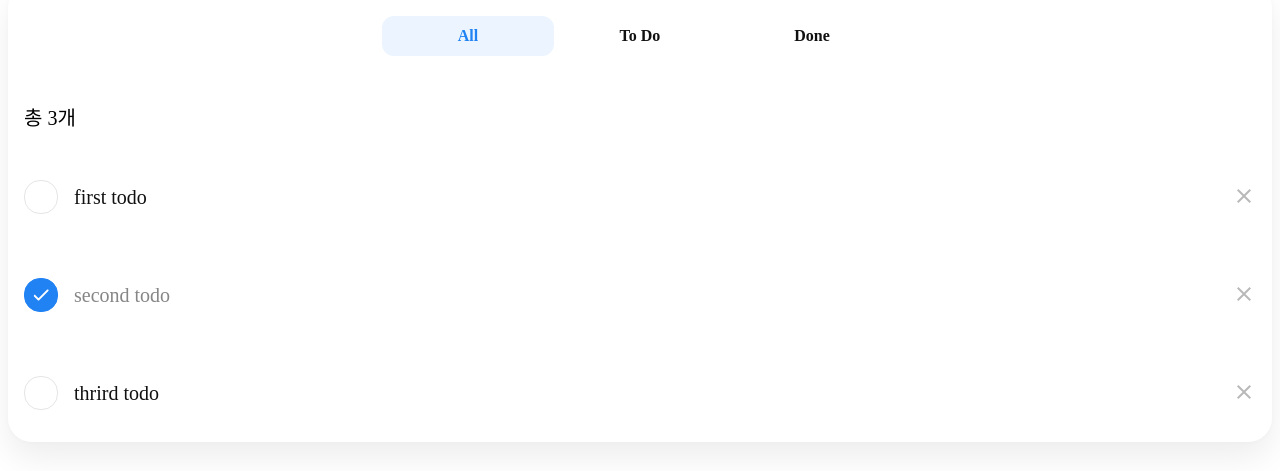
Test case: Todo User List Page › 삭제 버튼을 누르면 해당 todo가 삭제된다
Click the button without text in the row of "first todo".
click(1244, 197)  # box 1232,184 -> 1256,210
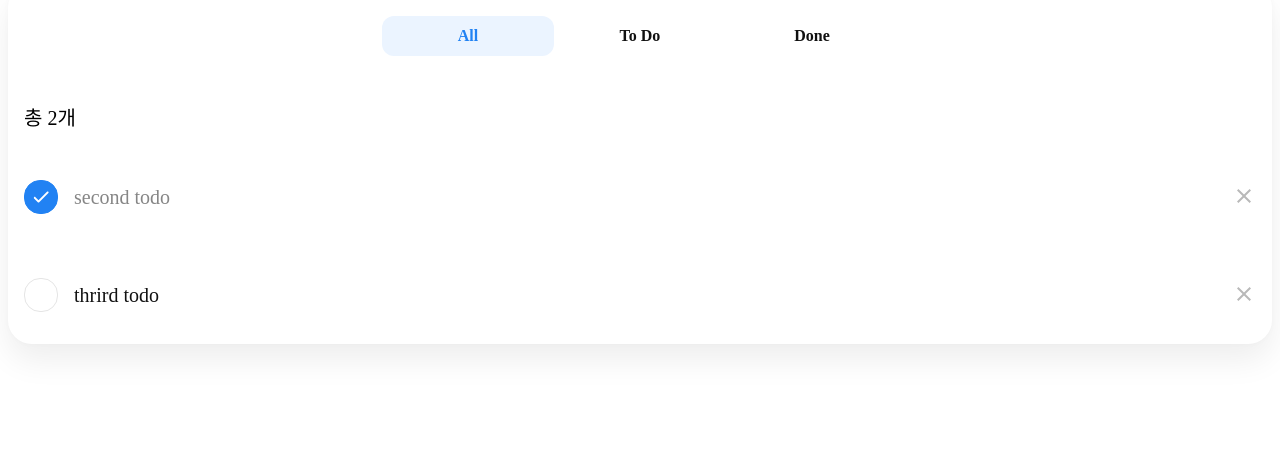
Result: the text "first todo" is gone
